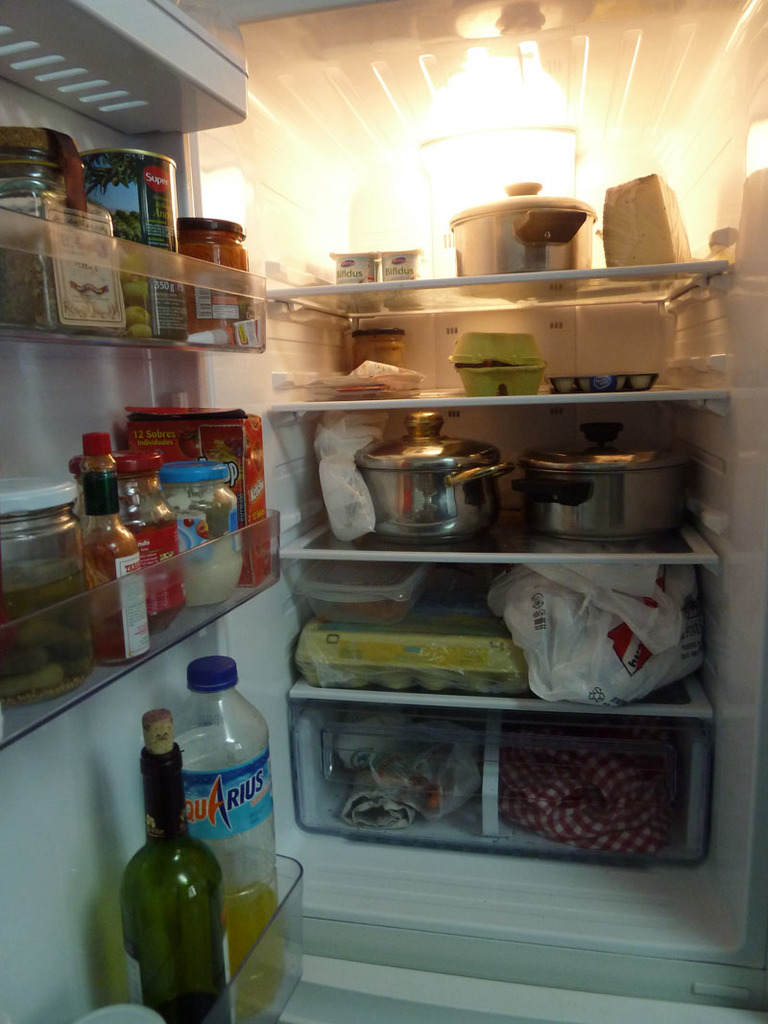refrigerator door: (16, 135, 238, 1024)
